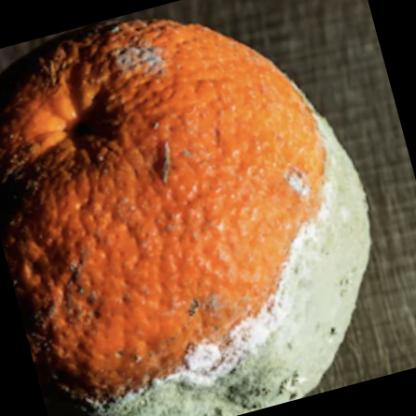rotten_orange: (1, 10, 376, 416)
